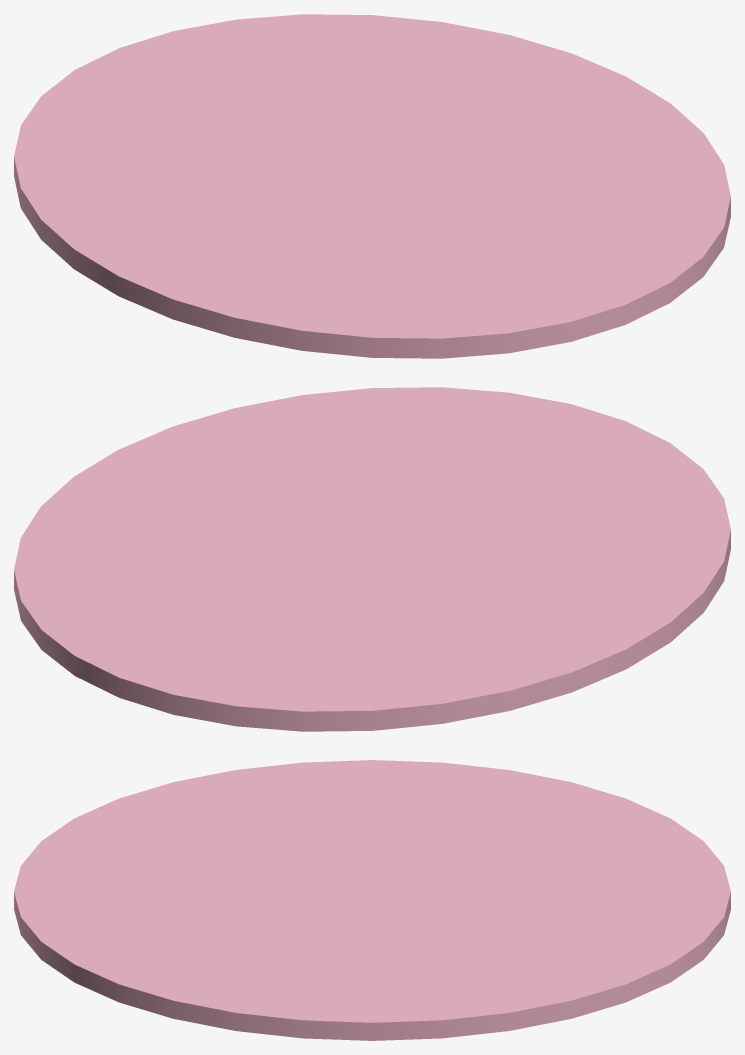
File: Lug.fbx
The picture shows the model from 3 angles, top to bottom: view 1: azimuth 30°, elevation 25°; view 2: azimuth 150°, elevation 25°; view 3: azimuth 270°, elevation 25°; orthographic projection. The views are drawn at different scales.
Parts seen in each view (by area): view 1: Lug; view 2: Lug; view 3: Lug.
Boxes of the visible parts, <box> form: Lug: <box>14,14,730,358</box>; Lug: <box>14,387,730,731</box>; Lug: <box>14,760,730,1040</box>.
Bounding box in the file's own units: 3907 × 126 × 4505.
